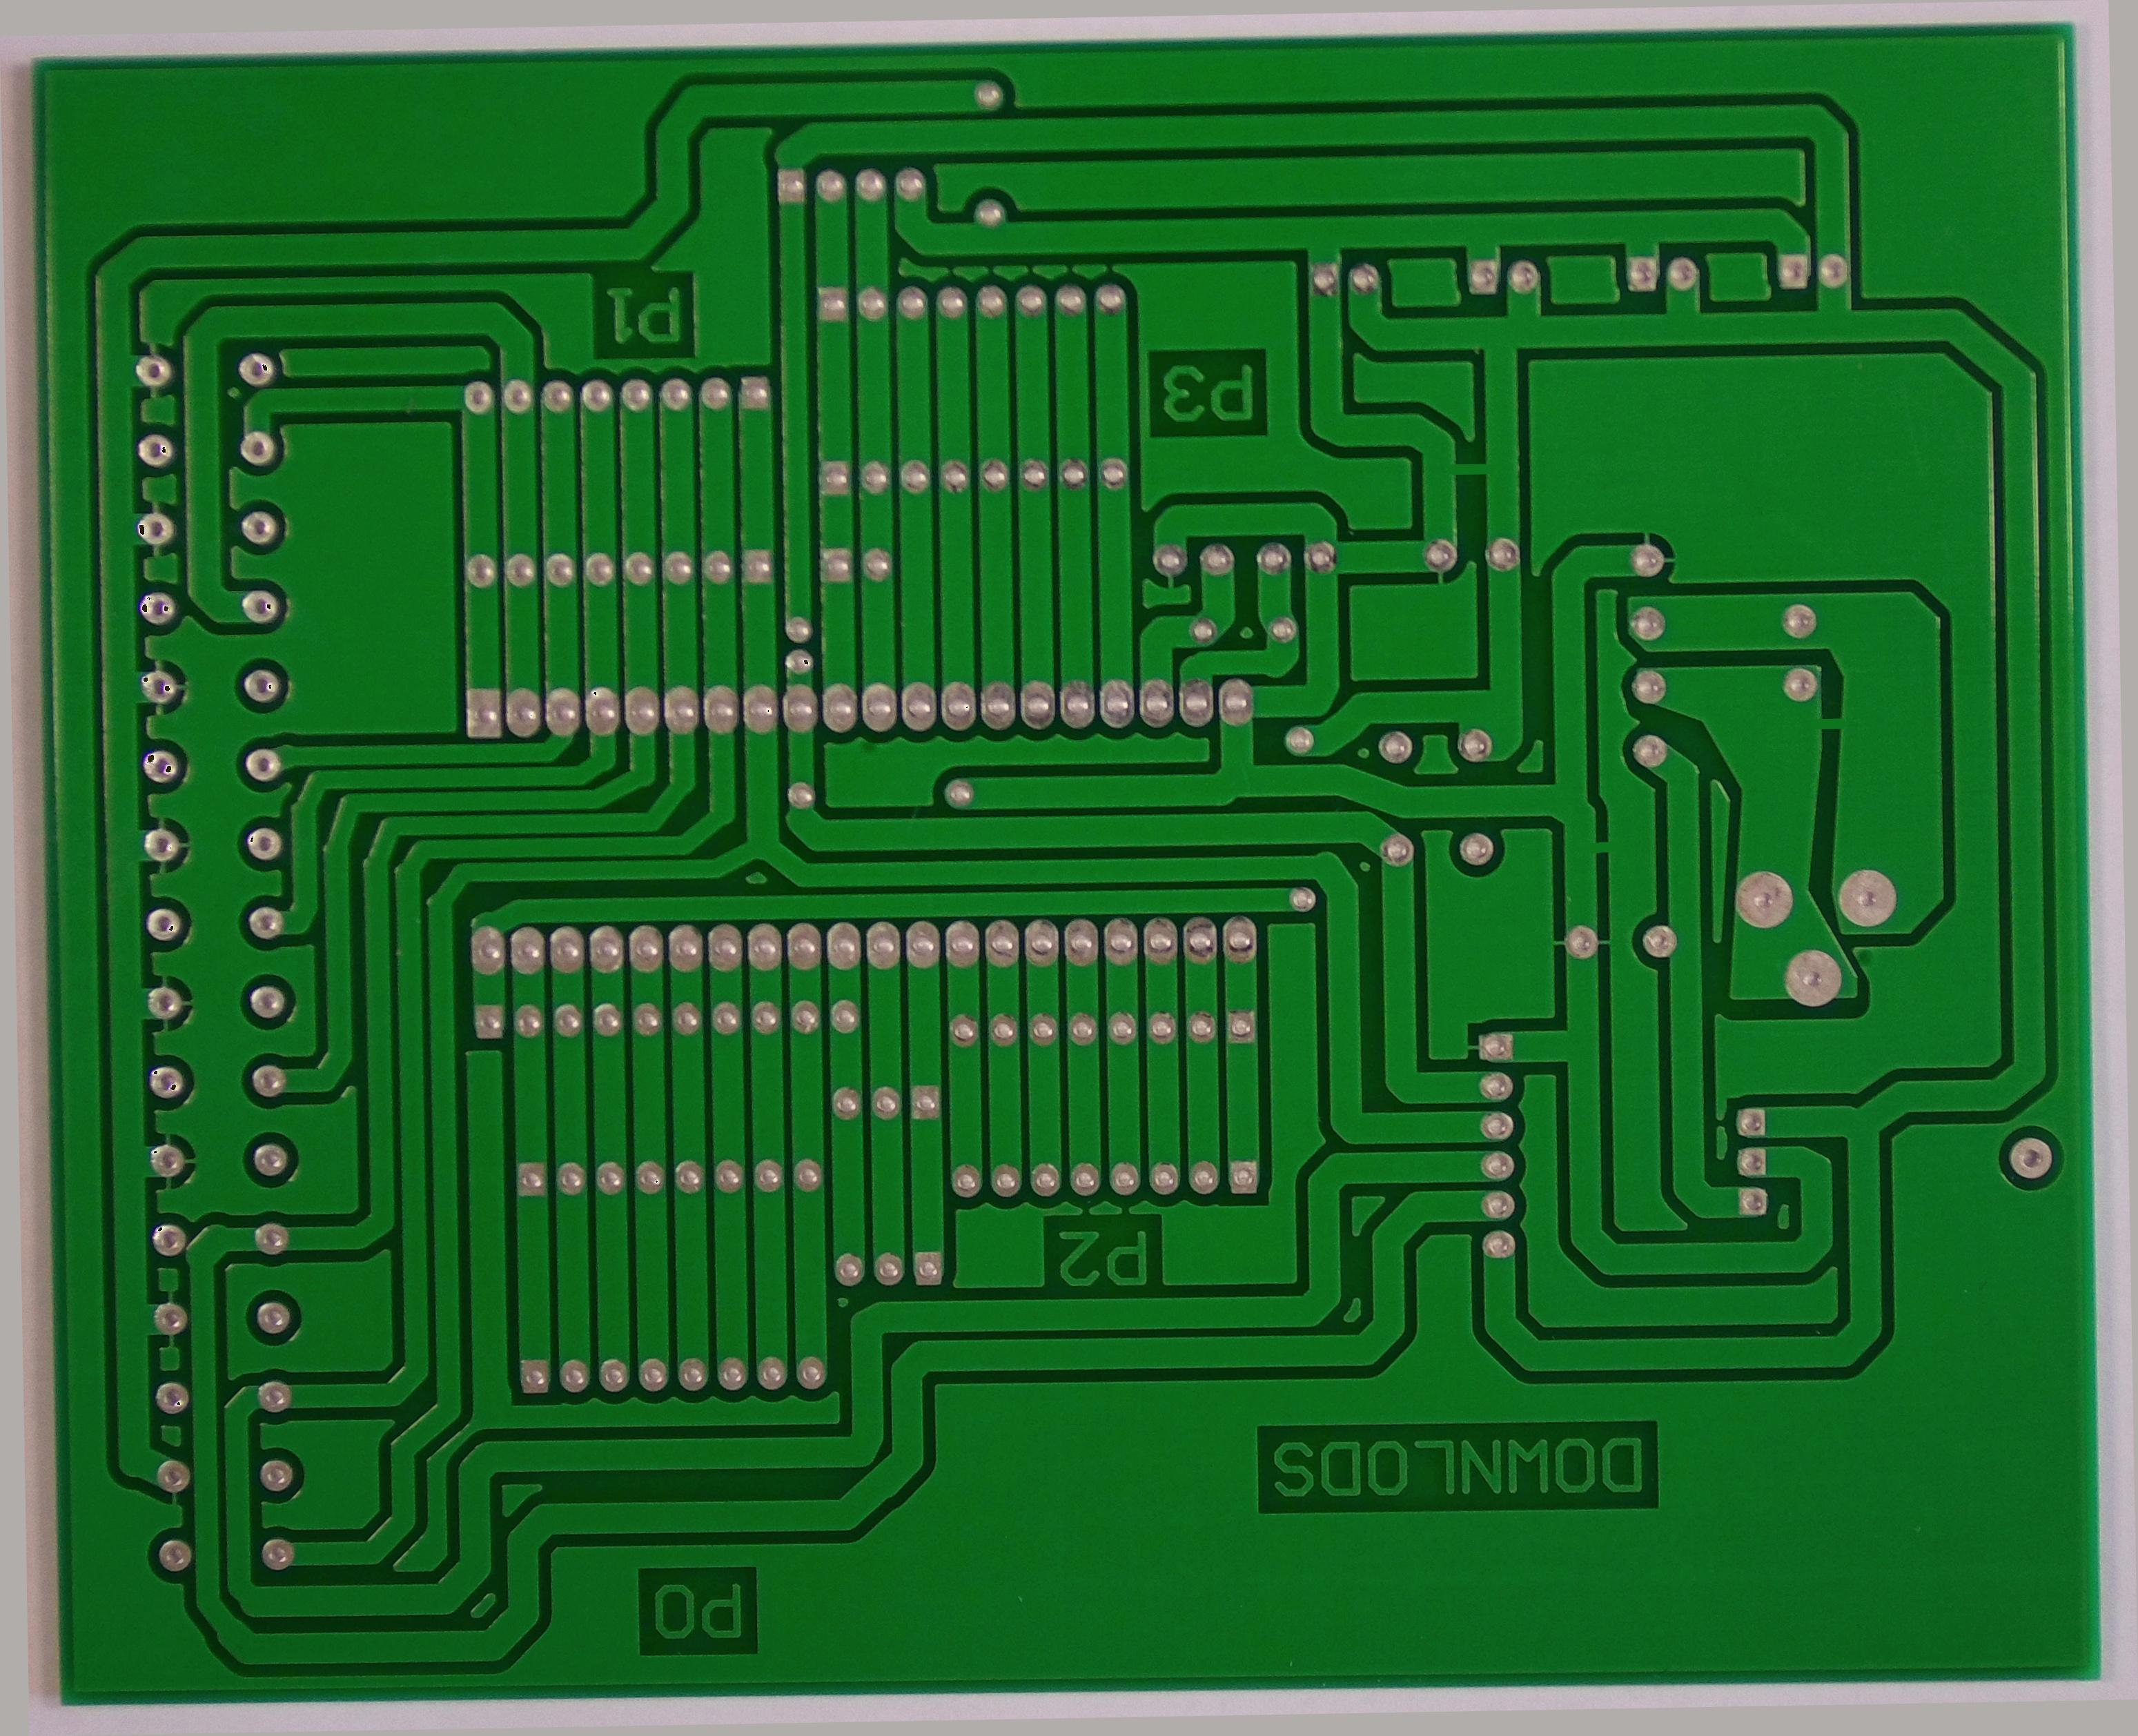short: (1791, 680, 1876, 765), (1435, 423, 1518, 508), (1562, 804, 1646, 889)
